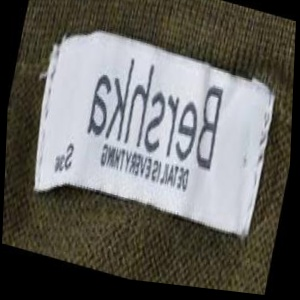bershka: (189, 23, 268, 103)
